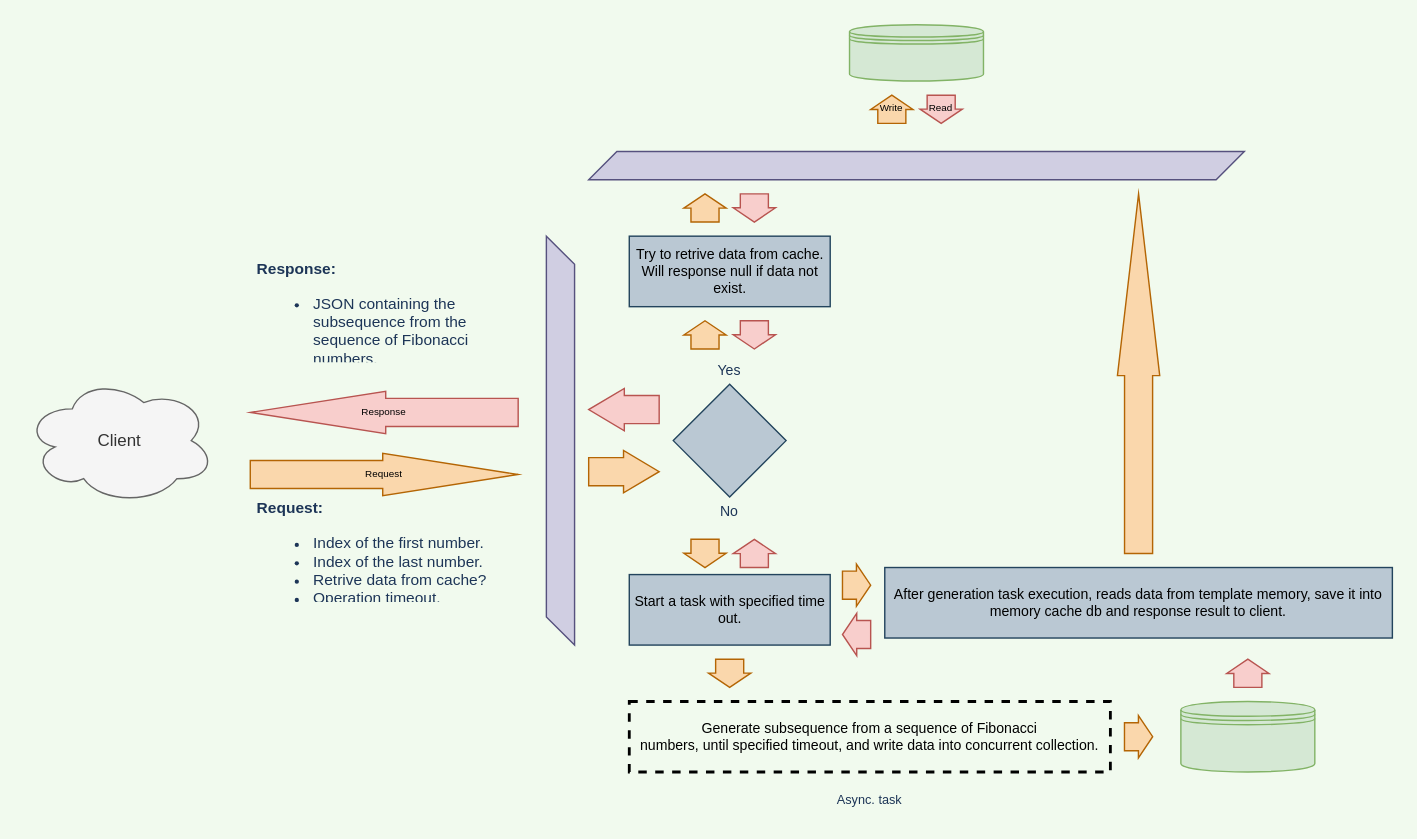
Image size: 1417x839. Some labels were removed from this diagram. Each missing label, with the centre of its shape:
"API" goes at (560,440).
"Mem-cache database." goes at (915,52).
"Read from cache?" goes at (729,440).
"Repository" goes at (915,165).
"Template memory for storing generation result." goes at (1247,736).
